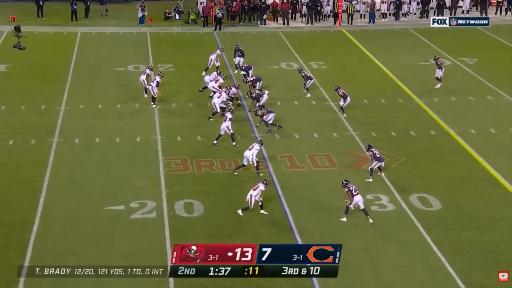Helmet: (366, 144, 373, 151), (227, 107, 234, 114), (342, 180, 349, 187), (224, 85, 231, 92), (257, 139, 264, 146), (262, 179, 268, 186), (433, 55, 439, 61), (247, 92, 253, 98), (243, 78, 249, 83), (148, 65, 153, 71), (254, 110, 259, 116), (235, 64, 240, 70), (234, 83, 239, 89), (335, 86, 341, 91), (220, 75, 226, 80), (235, 44, 240, 49), (216, 70, 221, 75), (158, 72, 163, 77), (298, 68, 303, 73), (240, 65, 246, 69), (220, 47, 224, 52)
Jersey: (247, 184, 265, 207), (244, 143, 260, 162), (337, 89, 350, 107), (368, 149, 384, 162), (345, 184, 359, 198), (213, 91, 227, 104), (225, 87, 237, 101), (435, 60, 444, 78), (240, 65, 253, 77), (263, 110, 275, 123), (205, 71, 219, 82), (337, 89, 349, 101), (222, 113, 232, 127), (301, 72, 313, 82), (248, 77, 262, 85), (234, 48, 245, 58), (140, 69, 151, 79), (151, 76, 161, 87), (253, 93, 264, 102), (213, 77, 224, 86), (211, 50, 221, 59), (241, 65, 252, 73), (435, 60, 443, 70), (266, 109, 275, 114)
Player: (341, 180, 373, 223), (238, 179, 268, 215), (233, 140, 263, 175), (214, 107, 236, 146), (366, 145, 384, 181), (255, 109, 282, 132), (202, 48, 224, 75), (209, 90, 227, 120), (150, 72, 163, 108), (298, 68, 314, 97), (199, 70, 221, 91), (207, 74, 226, 98), (335, 86, 350, 116), (247, 91, 268, 111), (140, 66, 153, 97), (225, 83, 241, 106), (433, 56, 444, 87), (234, 44, 245, 73), (243, 76, 262, 91), (236, 64, 253, 78), (359, 0, 367, 21), (380, 0, 388, 21), (324, 0, 332, 20), (388, 0, 395, 20), (410, 0, 417, 19), (402, 0, 408, 20)
